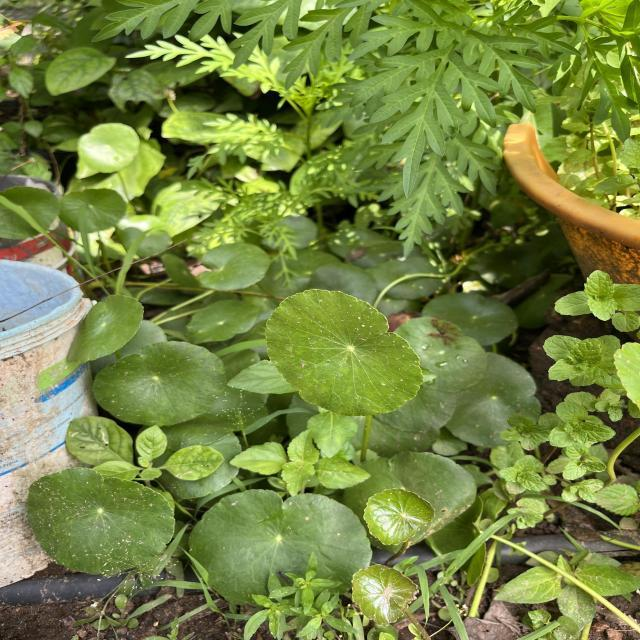Bacopa monnieri: (186, 486, 374, 608), (262, 286, 426, 418), (24, 464, 177, 576), (90, 338, 229, 428), (66, 292, 146, 364), (348, 562, 422, 628), (362, 486, 437, 547)
